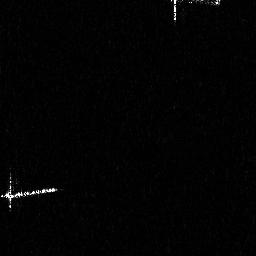ship: (1, 172, 65, 212)
